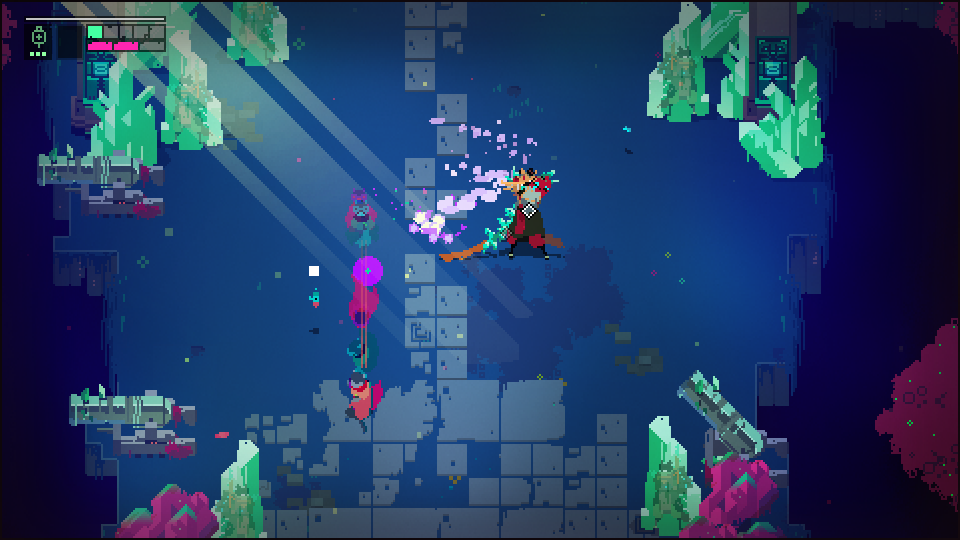hanged_man: (483, 162, 560, 260)
hanged_shot: (352, 257, 379, 287)
player: (350, 372, 384, 427)
